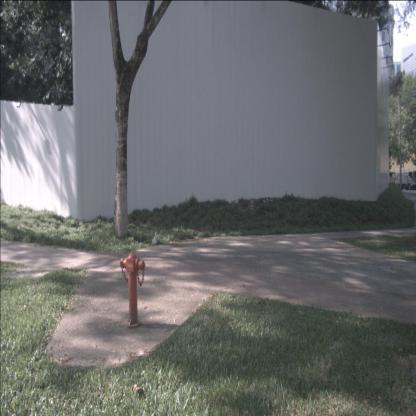vehicle-truck: (396, 170, 415, 191), (376, 171, 396, 190)
